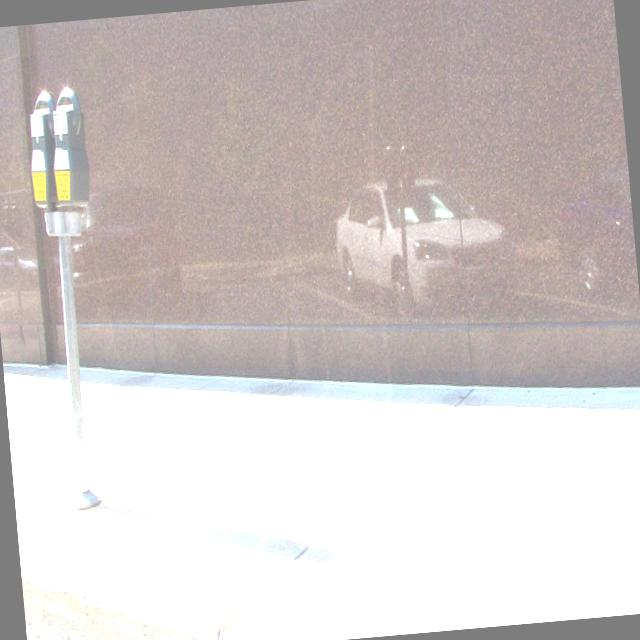Vehicle: (331, 170, 514, 320)
